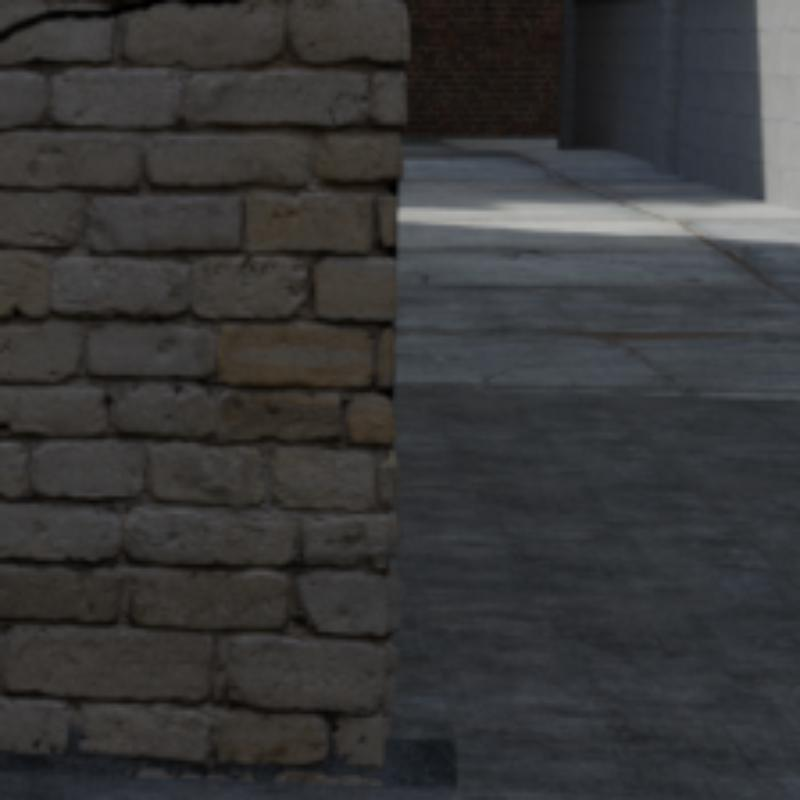pothole: (0, 3, 154, 42)
